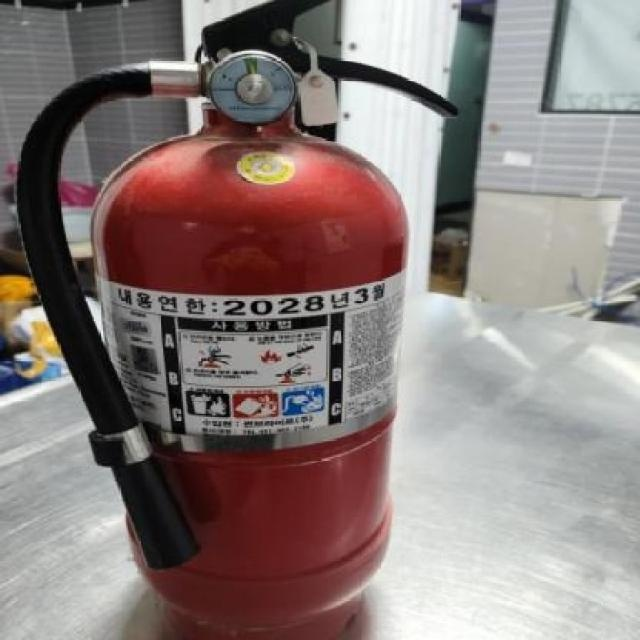fire extinguisher: (15, 0, 460, 640)
